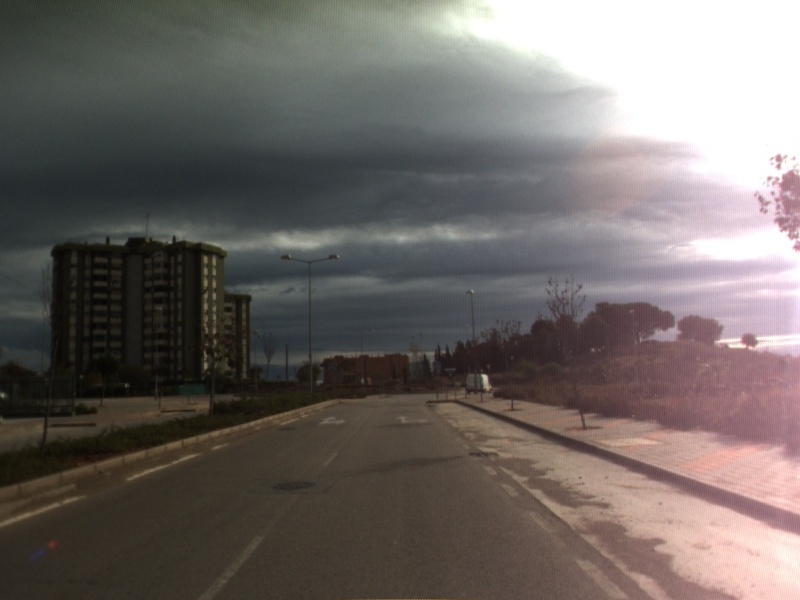STRAIGHT_RIGHT: (395, 413, 431, 426), (316, 414, 348, 427)
